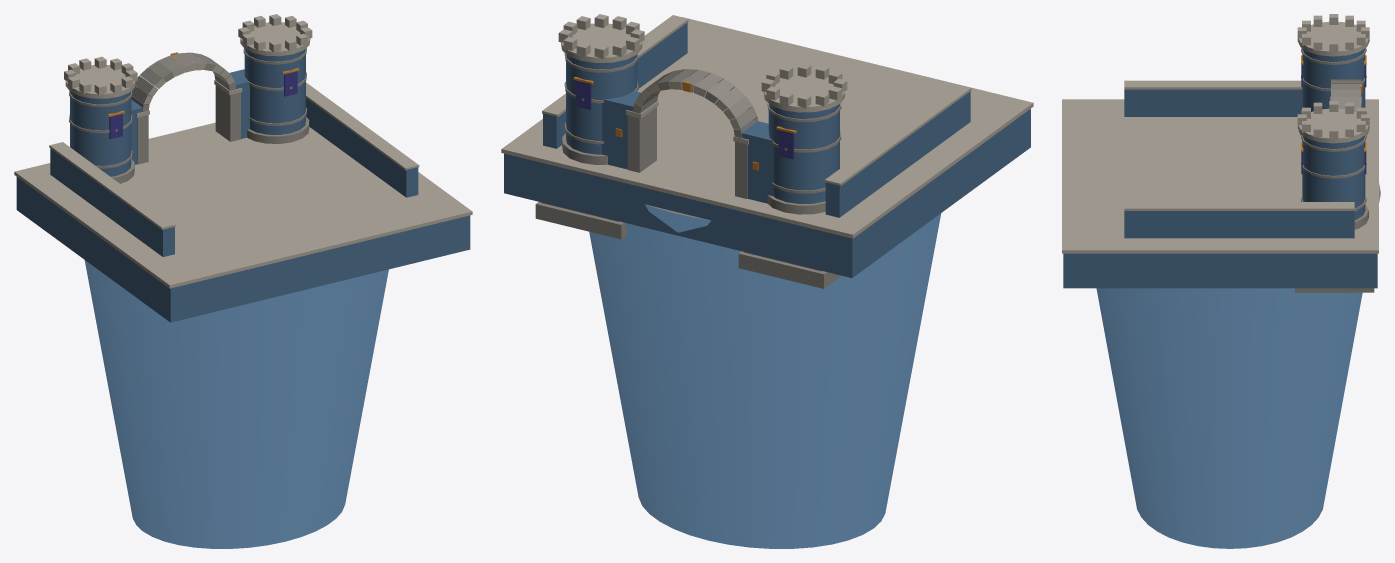
File: high_crown_entrance_structure.obj
3 renders of one model, left to right at view 1: azimuth 30°, elevation 25°; view 2: azimuth 150°, elevation 25°; view 3: azimuth 270°, elevation 25°, orthographic. The views are drawn at different scales.
Visible parts, largest first — view 1: high_crown_entrance_structure; view 2: high_crown_entrance_structure; view 3: high_crown_entrance_structure.
Part boxes in pixels (x1,y1,x2,y2): high_crown_entrance_structure: [14, 14, 472, 548]; high_crown_entrance_structure: [501, 14, 1033, 548]; high_crown_entrance_structure: [1062, 14, 1380, 548].
Bounding box in the file's own units: 37.8 × 50.1 × 33.8.
